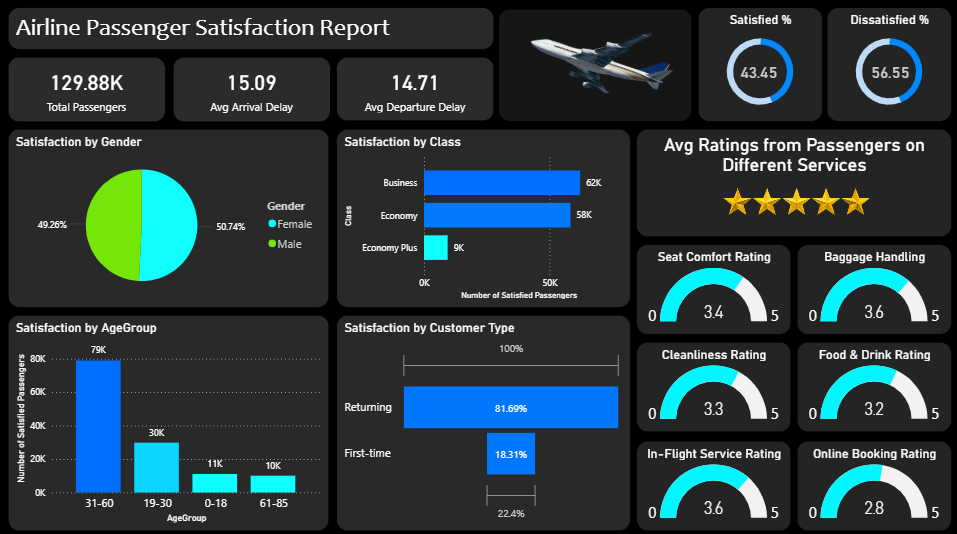

The dashboard page shown, as its layout file describes it:
{"tool":"powerbi","page":{"name":"Page 1","canvas":[1280,720],"ordinal":0},"visuals":[{"type":"card","fields":{"Values":["Data.Satisfied %"]},"box":[948,54,130,84],"z":0},{"type":"card","fields":{"Values":["Data.Dis_Satisfied %"]},"box":[1122,54,132,84],"z":1000},{"type":"textbox","title":"Airline Passenger Satisfaction Report","box":[12,10,648,56],"z":2000},{"type":"donutChart","title":"Satisfied %","fields":{"Category":["Data.Satisfaction"],"Y":["Count(Data.ID)"]},"box":[932,10,166,152],"z":3000},{"type":"donutChart","title":"Dissatisfied %","fields":{"Category":["Data.Satisfaction"],"Y":["Count(Data.ID)"]},"box":[1104,10,166,152],"z":4000},{"type":"clusteredBarChart","title":"Satisfaction by Class","fields":{"Category":["Data.Class"],"Y":["CountNonNull(Data.Satisfaction)"]},"box":[450,172,392,238],"z":5000},{"type":"funnel","title":"Satisfaction by Customer Type","fields":{"Category":["Data.Customer Type"],"Y":["CountNonNull(Data.Satisfaction)"]},"box":[450,420,392,288],"z":6000},{"type":"pieChart","title":"Satisfaction by Gender","fields":{"Category":["Data.Gender"],"Y":["CountNonNull(Data.Satisfaction)"]},"box":[12,172,428,238],"z":7000},{"type":"card","fields":{"Values":["CountNonNull(Data.ID)"]},"box":[11.7,75,210,86.7],"z":8000},{"type":"card","fields":{"Values":["Avg(Data.Arrival Delay)"]},"box":[231.7,75,210,86.7],"z":9000},{"type":"card","fields":{"Values":["Avg(Data.Departure Delay)"]},"box":[450,76.7,210,85],"z":10000},{"type":"clusteredColumnChart","title":"Satisfaction by AgeGroup","fields":{"Y":["CountNonNull(Data.Satisfaction)"],"Category":["Data.AgeGroup"]},"box":[12,420,428,288],"z":11000},{"type":"gauge","title":"Seat Comfort Rating","fields":{"MaxValue":["Data.Max_Rating"],"Y":["Avg(Data.Seat Comfort)"]},"box":[850,326,206,120],"z":12000},{"type":"gauge","title":"Baggage Handling","fields":{"Y":["Avg(Data.Baggage Handling)"],"MaxValue":["Data.Max_Rating"]},"box":[1064,326,206,120],"z":13000},{"type":"textbox","title":"Avg Ratings from Passengers on Different Services","box":[850,172,420,144],"z":14000},{"type":"gauge","title":"Cleanliness Rating","fields":{"MaxValue":["Data.Max_Rating"],"Y":["Avg(Data.Cleanliness)"]},"box":[850,456,206,120],"z":15000},{"type":"gauge","title":"Food & Drink Rating","fields":{"MaxValue":["Data.Max_Rating"],"Y":["Avg(Data.Food and Drink)"]},"box":[1064,456,206,120],"z":16000},{"type":"gauge","title":"In-Flight Service Rating","fields":{"MaxValue":["Data.Max_Rating"],"Y":["Avg(Data.In-flight Service)"]},"box":[850,588,206,120],"z":17000},{"type":"gauge","title":"Online Booking Rating","fields":{"MaxValue":["Data.Max_Rating"],"Y":["Avg(Data.Ease of Online Booking)"]},"box":[1064,588,206,120],"z":18000},{"type":"image","box":[948,236,230,64],"z":19000},{"type":"textbox","box":[666,12,258,150],"z":21000},{"type":"image","box":[670,0,262,172],"z":21001}]}

Visuals, with their boxes in screenshot pixels (x1, y1, x2, y2), scaled from the page's 1280x720 canvas onto the 957x534 screenshot:
card - Data.Satisfied %: 709:40:806:102
card - Data.Dis_Satisfied %: 839:40:938:102
"Airline Passenger Satisfaction Report" textbox: 9:7:493:49
"Satisfied %" donutChart: 697:7:821:120
"Dissatisfied %" donutChart: 825:7:950:120
"Satisfaction by Class" clusteredBarChart: 336:128:630:304
"Satisfaction by Customer Type" funnel: 336:312:630:525
"Satisfaction by Gender" pieChart: 9:128:329:304
card - CountNonNull(Data.ID): 9:56:166:120
card - Avg(Data.Arrival Delay): 173:56:330:120
card - Avg(Data.Departure Delay): 336:57:493:120
"Satisfaction by AgeGroup" clusteredColumnChart: 9:312:329:525
"Seat Comfort Rating" gauge: 636:242:790:331
"Baggage Handling" gauge: 796:242:950:331
"Avg Ratings from Passengers on Different Services" textbox: 636:128:950:234
"Cleanliness Rating" gauge: 636:338:790:427
"Food & Drink Rating" gauge: 796:338:950:427
"In-Flight Service Rating" gauge: 636:436:790:525
"Online Booking Rating" gauge: 796:436:950:525
image: 709:175:881:222
textbox: 498:9:691:120
image: 501:0:697:128
